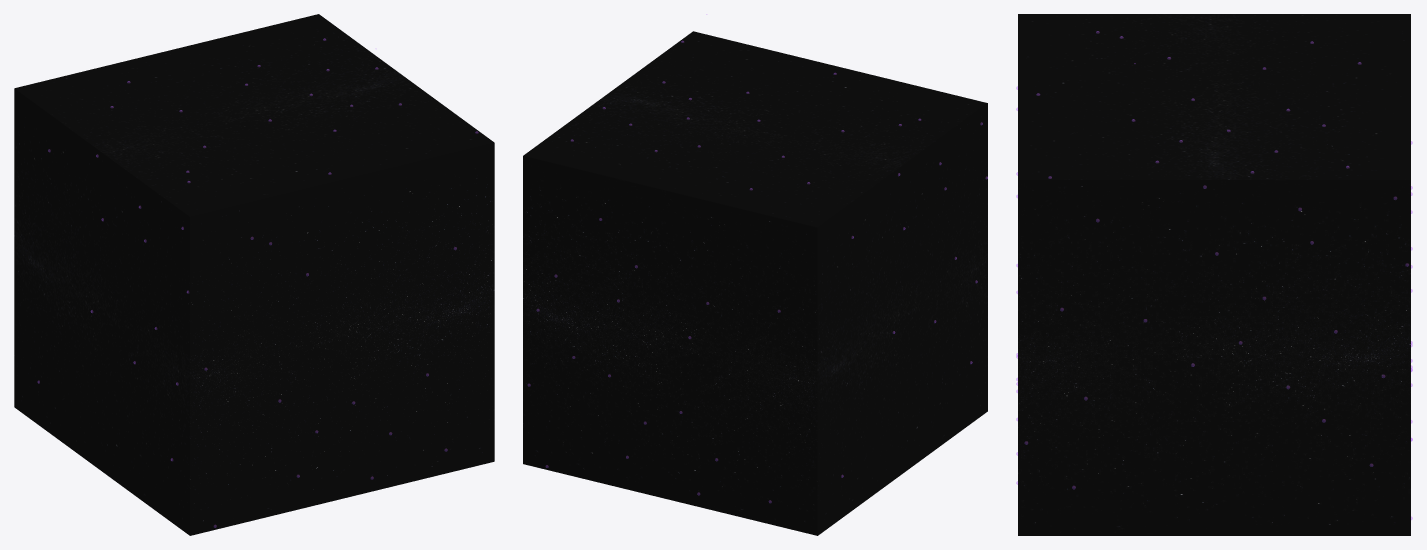
File: Final_Dream1_SpaceBackgroundBox.glb
3 renders of one model, left to right at view 1: azimuth 30°, elevation 25°; view 2: azimuth 150°, elevation 25°; view 3: azimuth 270°, elevation 25°, orthographic. The views are drawn at different scales.
Parts seen in each view (by area): view 1: Particle_Volume; view 2: Particle_Volume; view 3: Particle_Volume.
Part boxes in pixels (<box>): Particle_Volume: <box>14,14,494,535</box>; Particle_Volume: <box>523,31,987,535</box>; Particle_Volume: <box>1018,14,1410,535</box>.
Size of the model in its own units: 1918 by 2339 by 1918.
2 materials, 1 textured.
